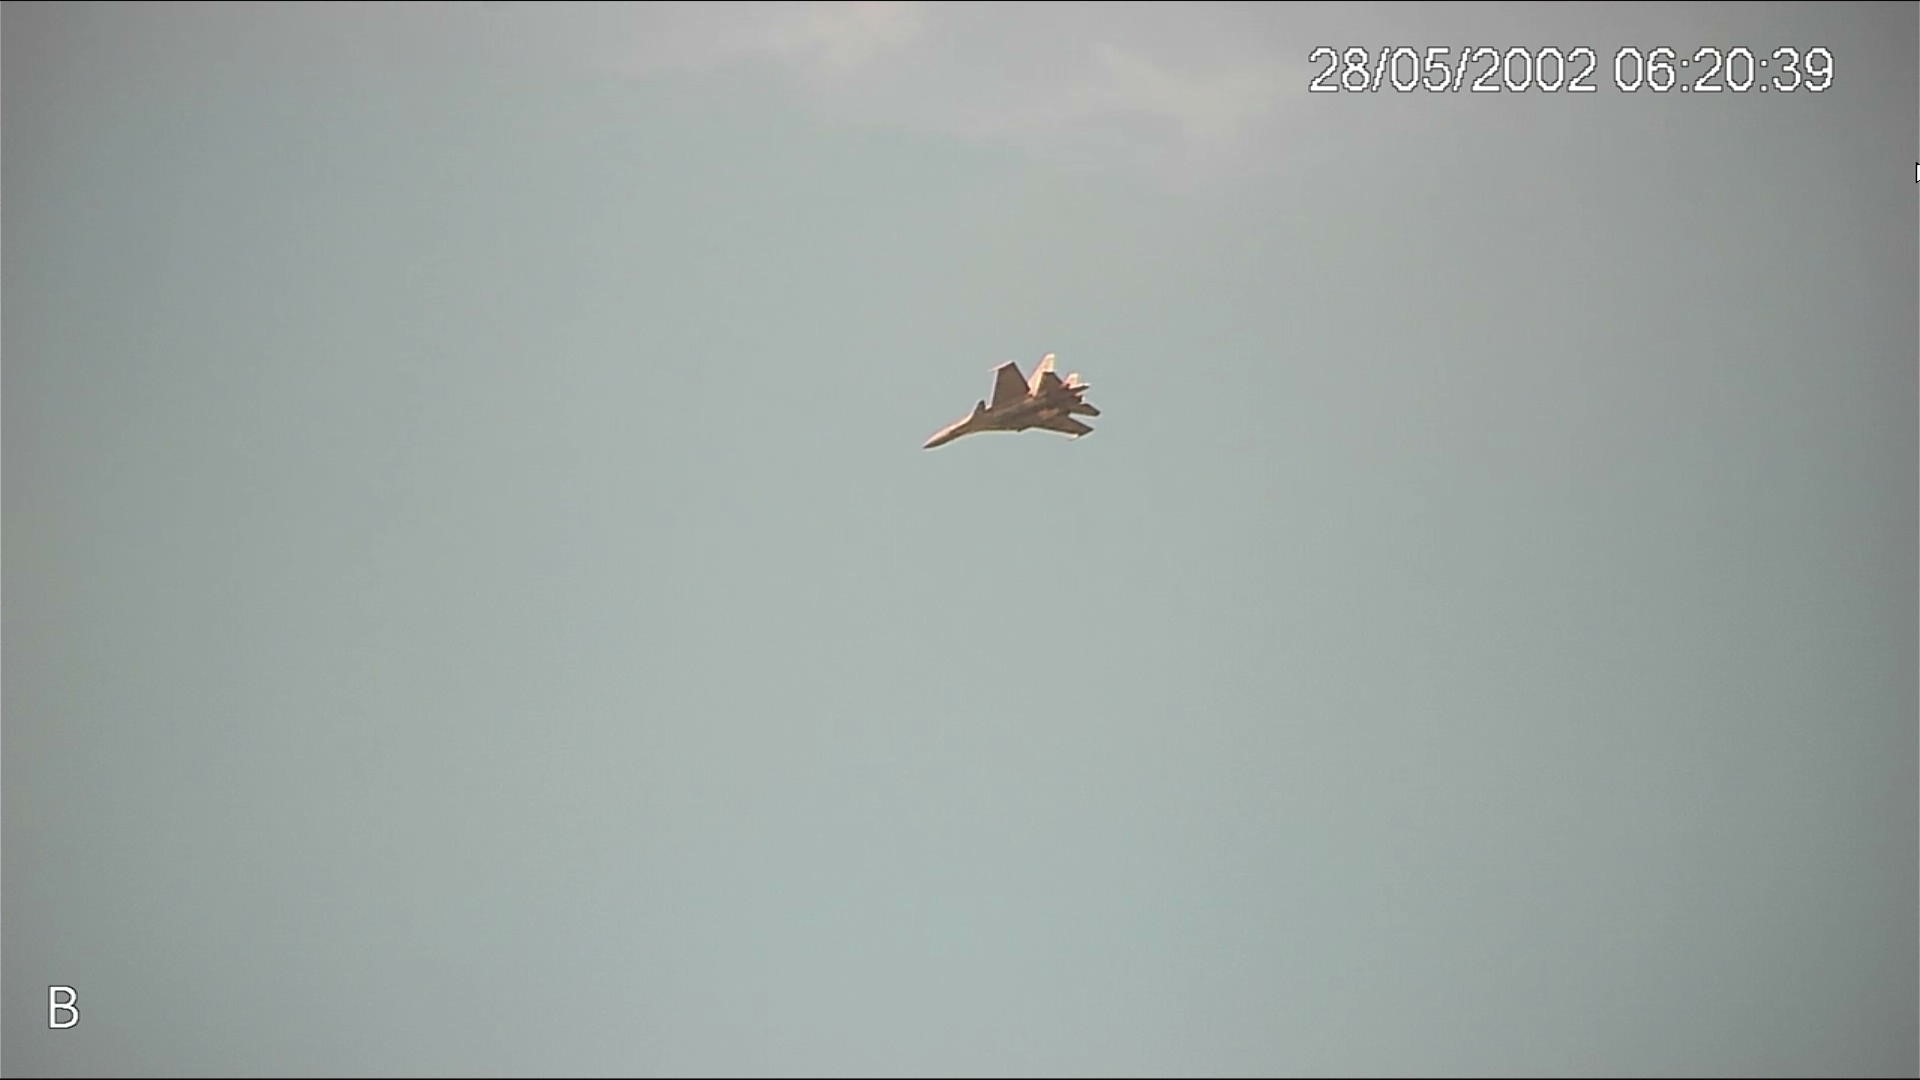SU_30: (923, 351, 1109, 454)
